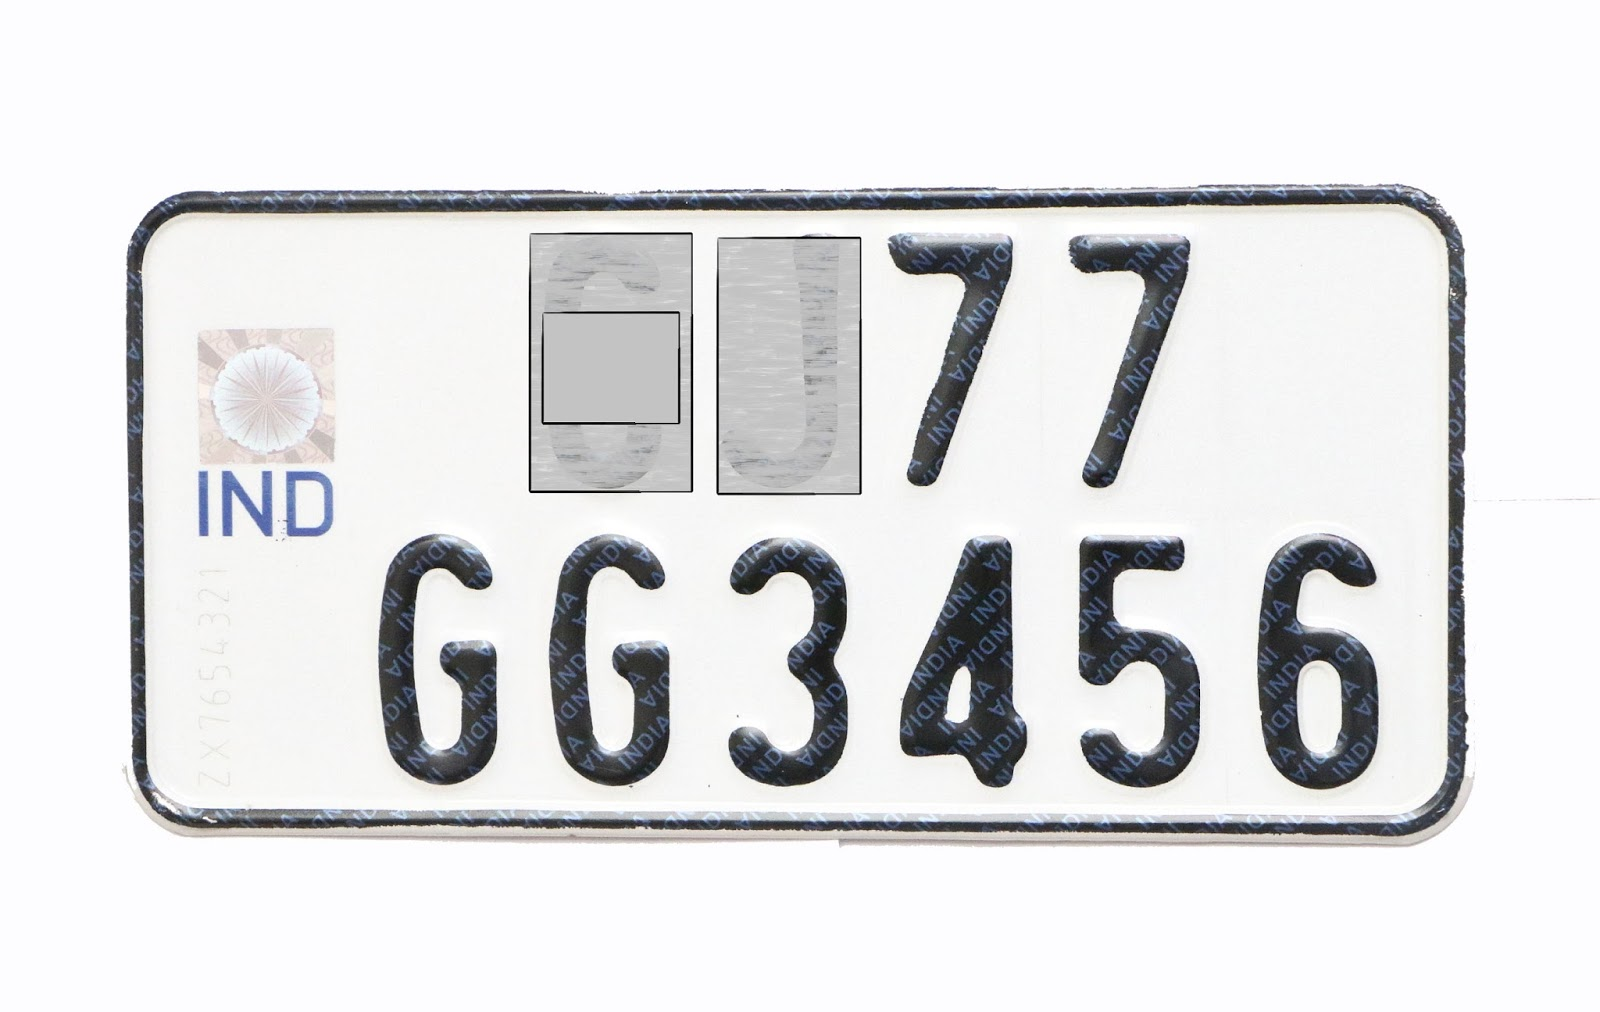number_plate: (124, 183, 1462, 849)
